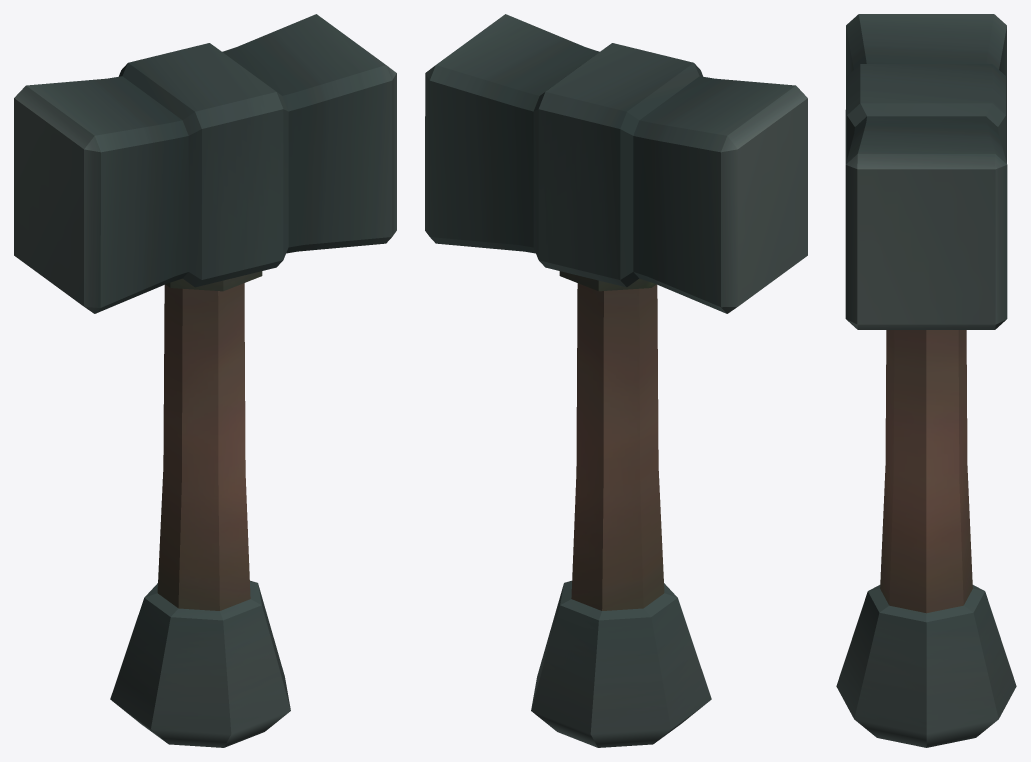
File: Hammer.fbx
The picture shows the model from 3 angles, left to right: view 1: azimuth 30°, elevation 25°; view 2: azimuth 150°, elevation 25°; view 3: azimuth 270°, elevation 25°; orthographic projection.
Visible parts, largest first — view 1: Hammer; view 2: Hammer; view 3: Hammer.
Boxes of the visible parts, x1,y1,x2,y2 form: Hammer: [14, 14, 396, 747]; Hammer: [425, 14, 807, 747]; Hammer: [836, 14, 1016, 747].
Bounding box in the file's own units: 18.65 × 36.87 × 9.45.
